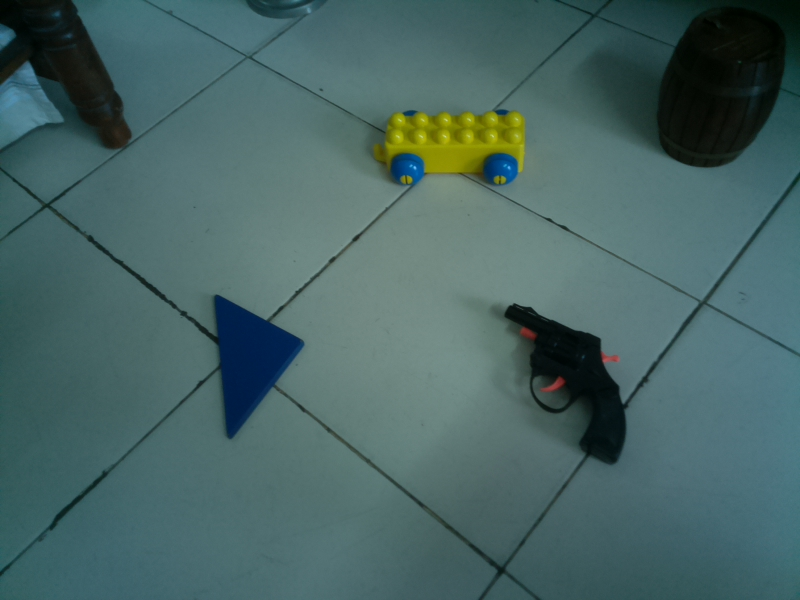Gun: (500, 299, 629, 469)
Triangle: (207, 288, 308, 441)
toy_Car: (368, 105, 532, 194)
